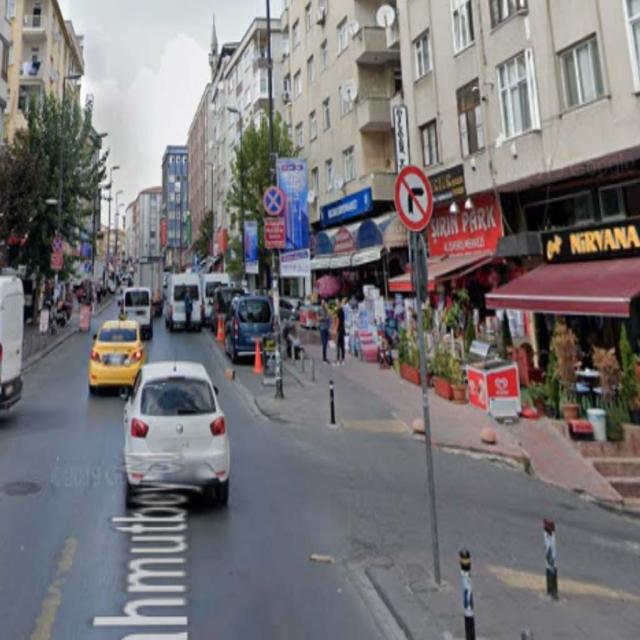sagadonulmez: (396, 166, 431, 230)
